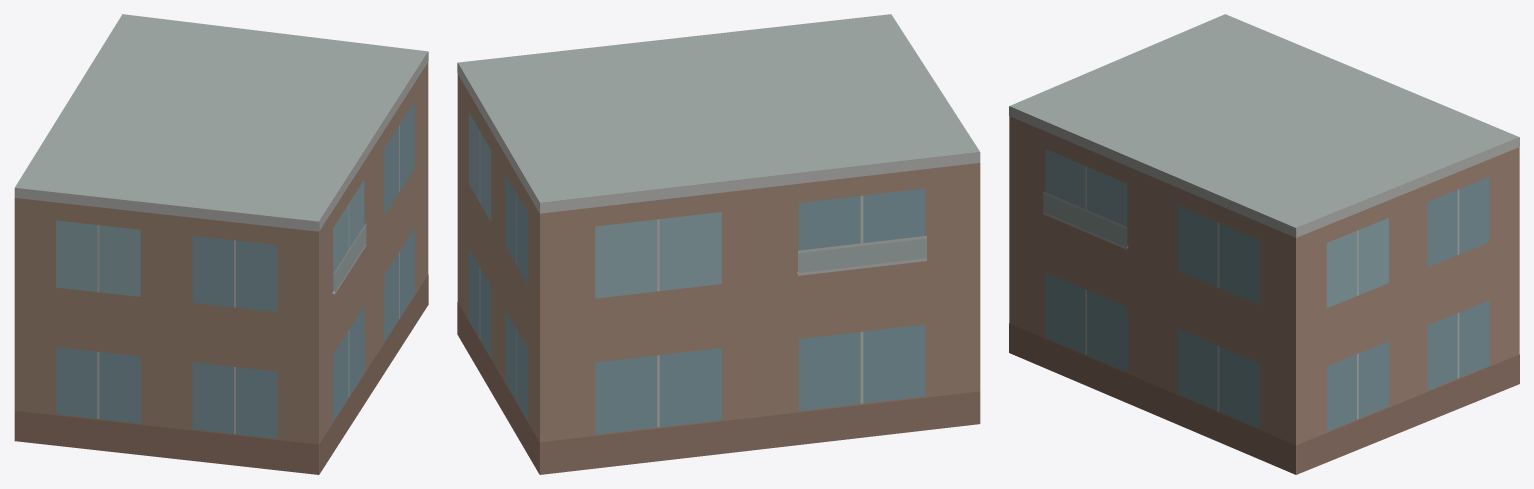
File: survey-upis-32976754.glb
3 renders of one model, left to right at view 1: azimuth 30°, elevation 25°; view 2: azimuth 150°, elevation 25°; view 3: azimuth 270°, elevation 25°, orthographic. The views are drawn at different scales.
Visible parts, largest first — view 1: survey-upis-32976754.tmp; view 2: survey-upis-32976754.tmp; view 3: survey-upis-32976754.tmp.
Part boxes in pixels (box(x1,y1,x2,y2)): survey-upis-32976754.tmp: box(14, 14, 428, 474); survey-upis-32976754.tmp: box(457, 14, 980, 474); survey-upis-32976754.tmp: box(1009, 14, 1519, 474).
Bounding box in the file's own units: 11.36 × 6.1 × 11.44.
